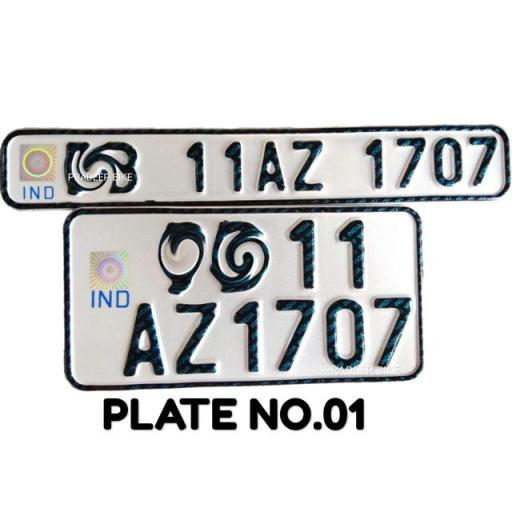number plate: (62, 209, 427, 385), (3, 125, 511, 203)
